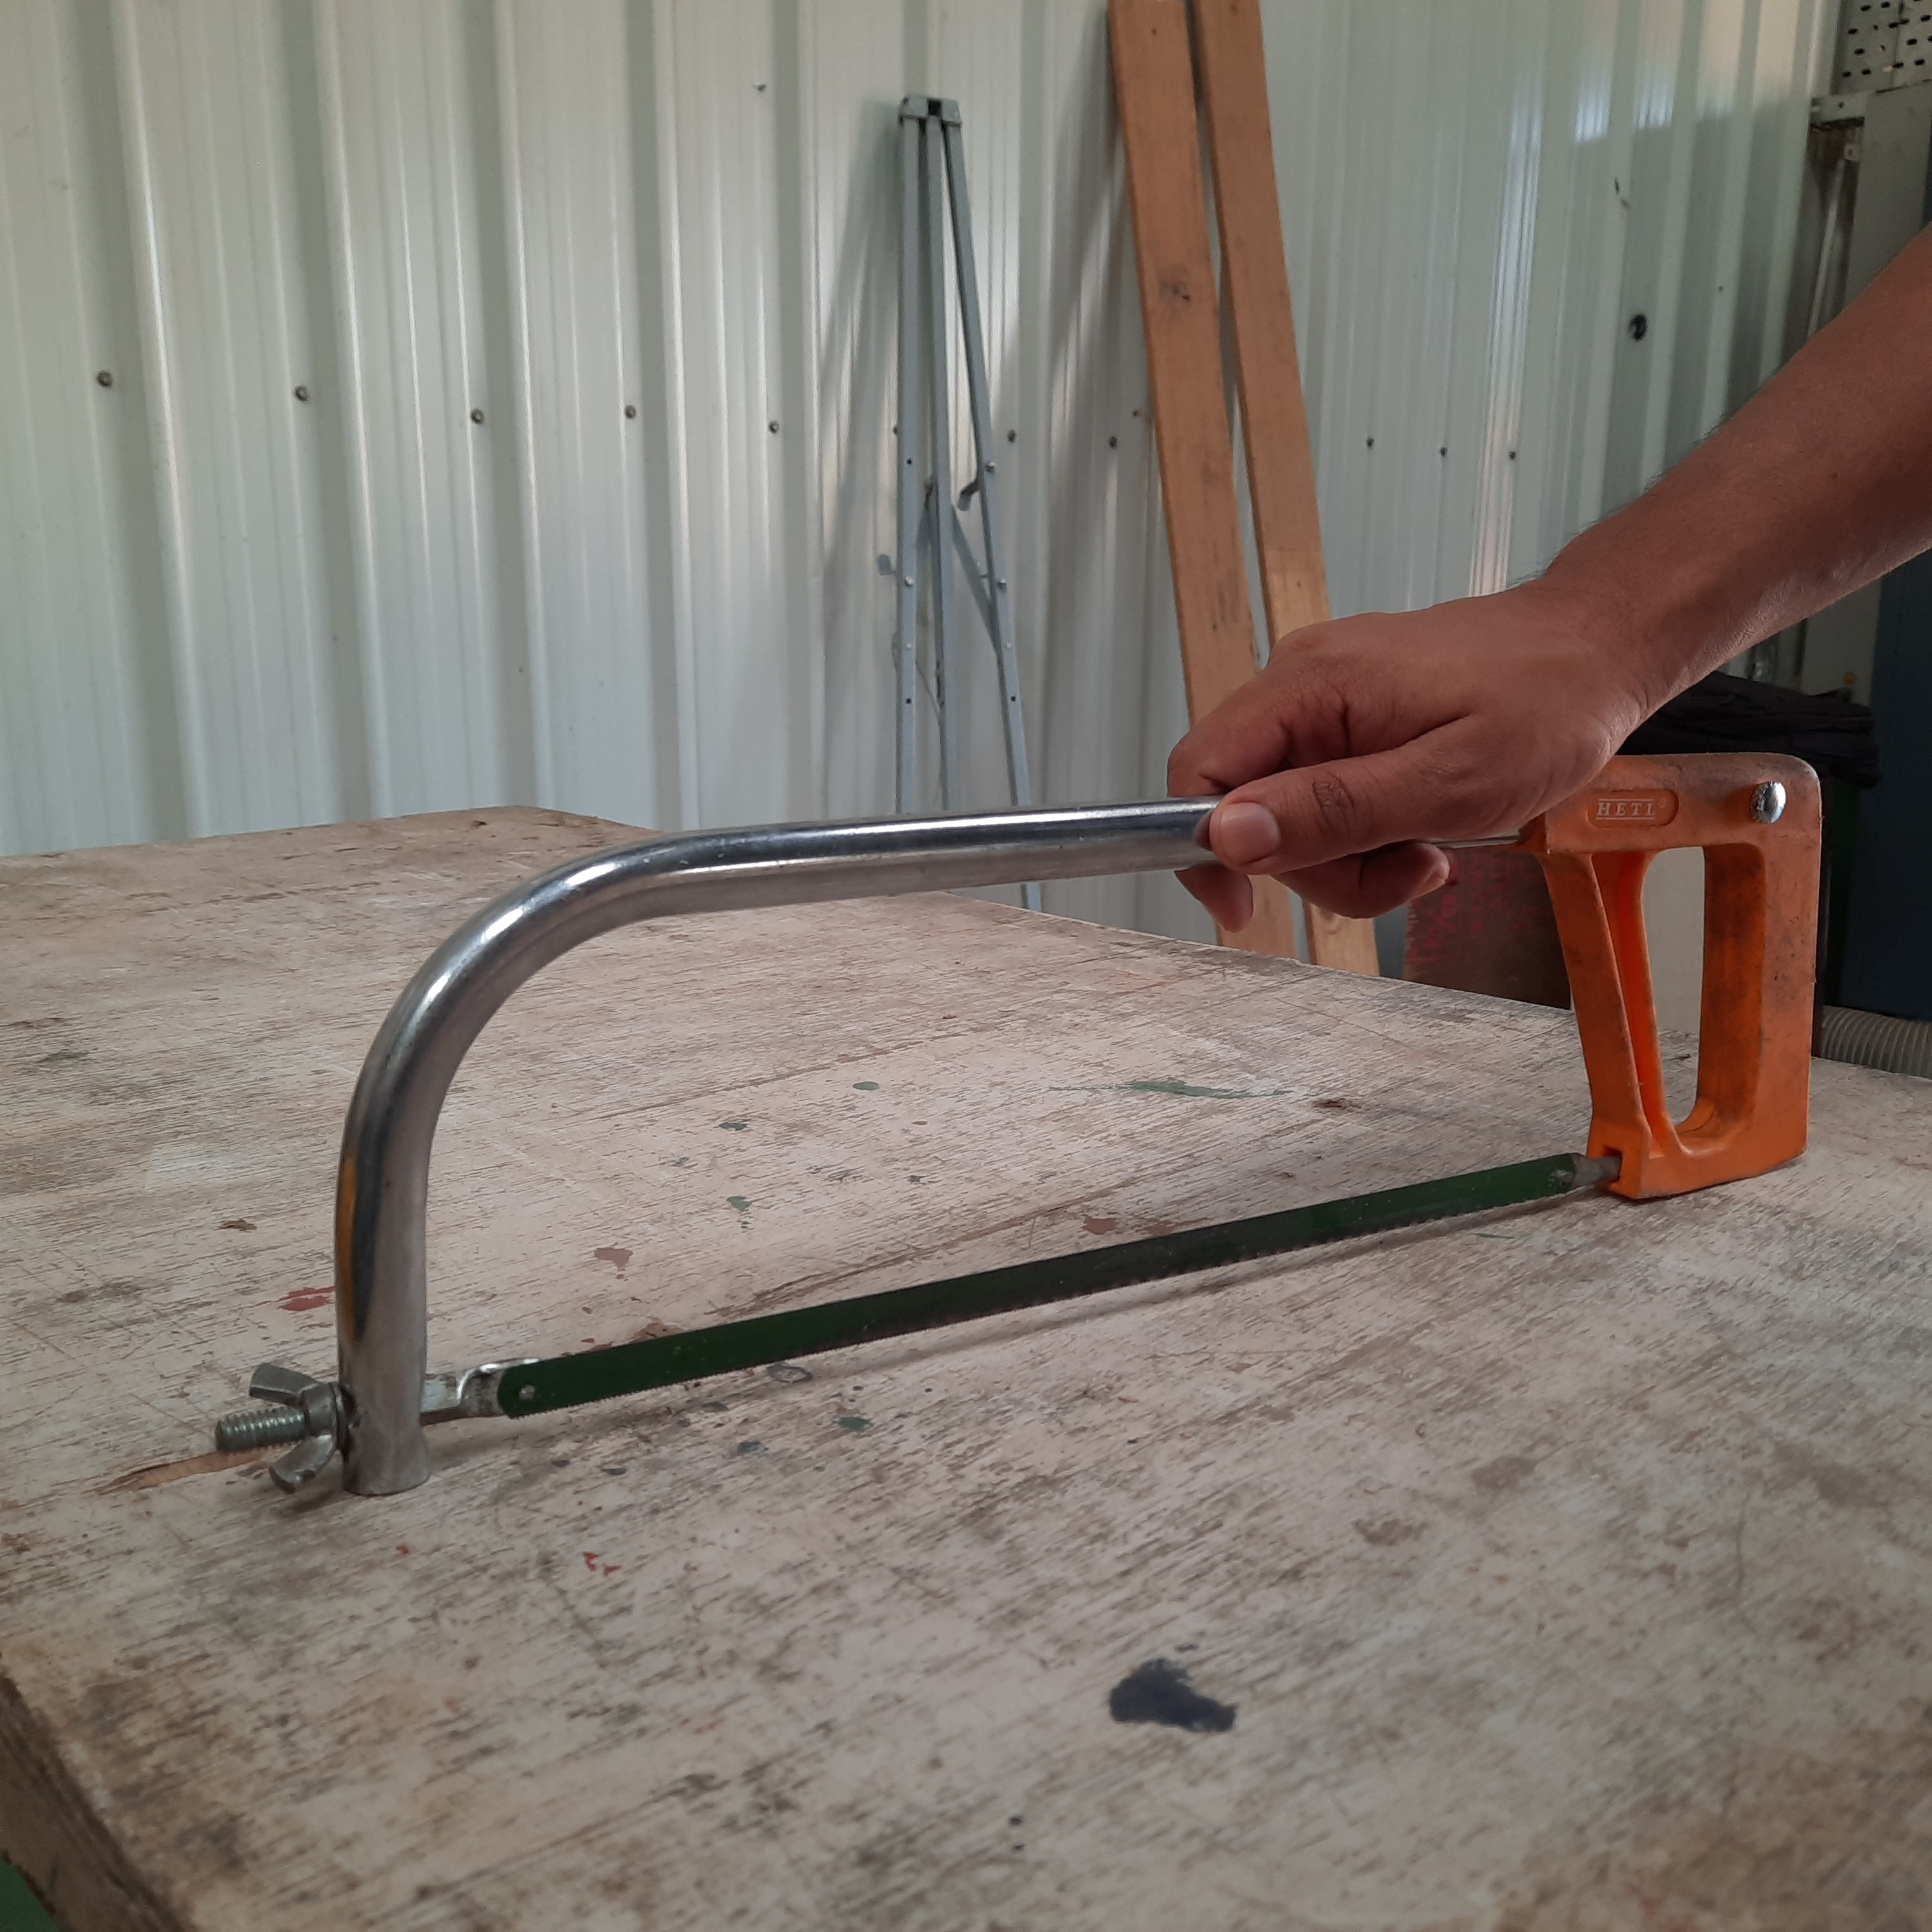Hexaframe: (209, 757, 1824, 1520)
